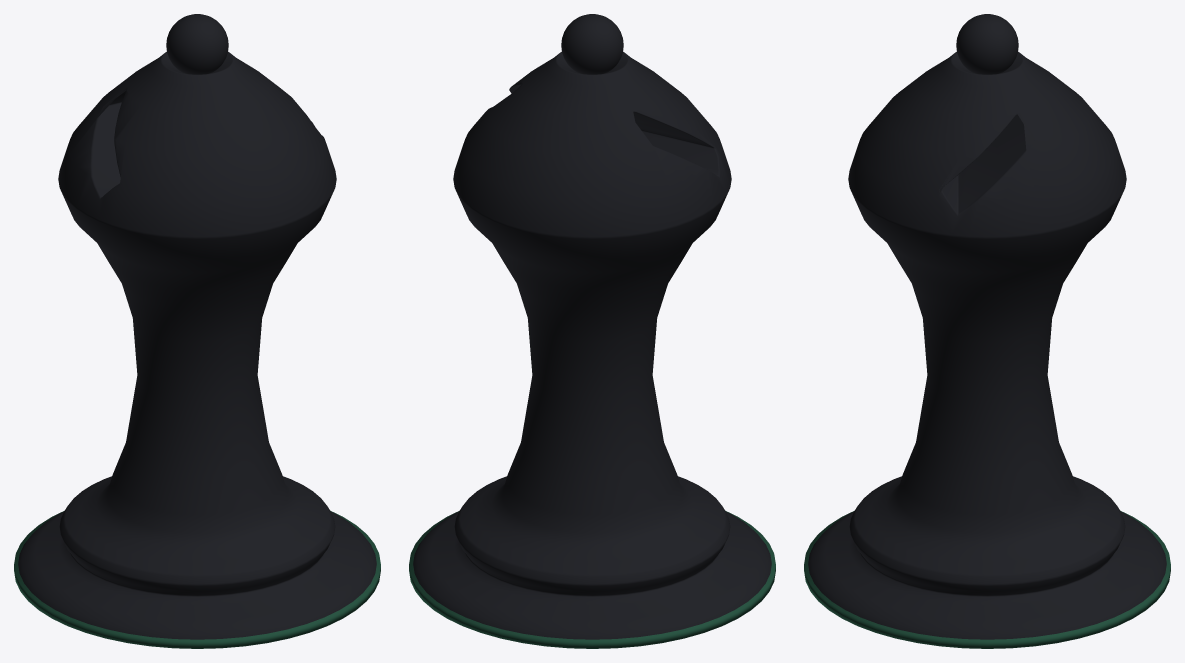
File: chess-bishop-black.glb
3 renders of one model, left to right at view 1: azimuth 30°, elevation 25°; view 2: azimuth 150°, elevation 25°; view 3: azimuth 270°, elevation 25°, orthographic.
Visible parts, largest first — view 1: ChessBishop; view 2: ChessBishop; view 3: ChessBishop.
Boxes of the visible parts, bbox=[...] form: ChessBishop: bbox=[14, 14, 380, 648]; ChessBishop: bbox=[409, 14, 775, 648]; ChessBishop: bbox=[804, 14, 1170, 648].
Size of the model in its own units: 0.5998 by 1 by 0.5998.
